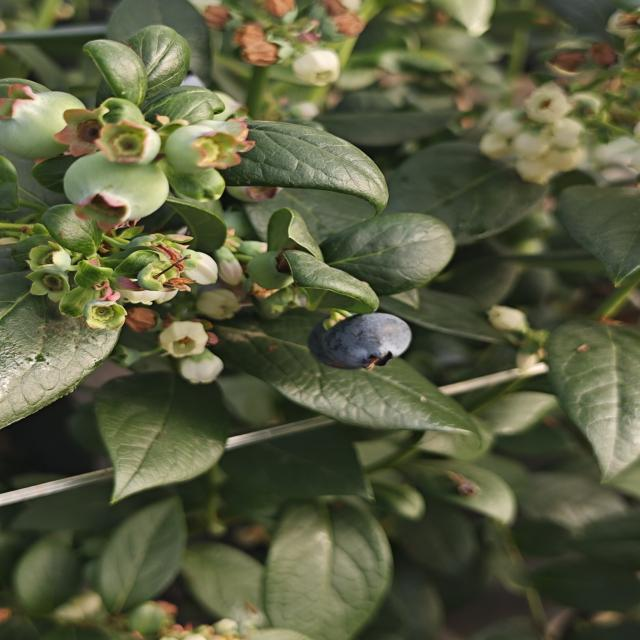ripe: (311, 308, 416, 362)
